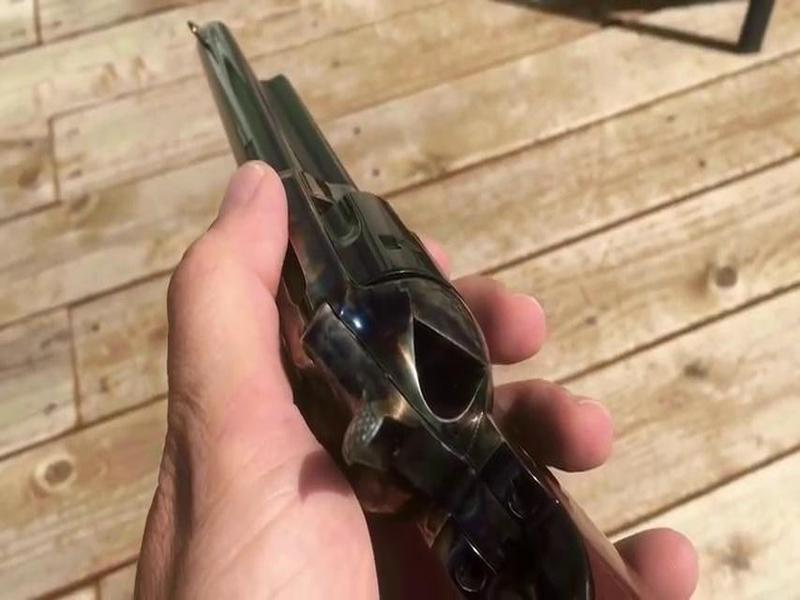Revolver: (166, 25, 509, 559)
